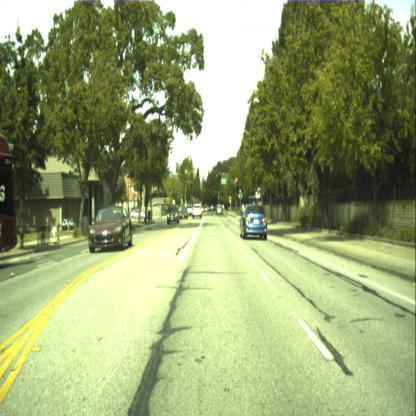Green: (236, 186, 238, 196), (239, 184, 241, 192), (216, 169, 217, 177)
off: (196, 167, 198, 176)
